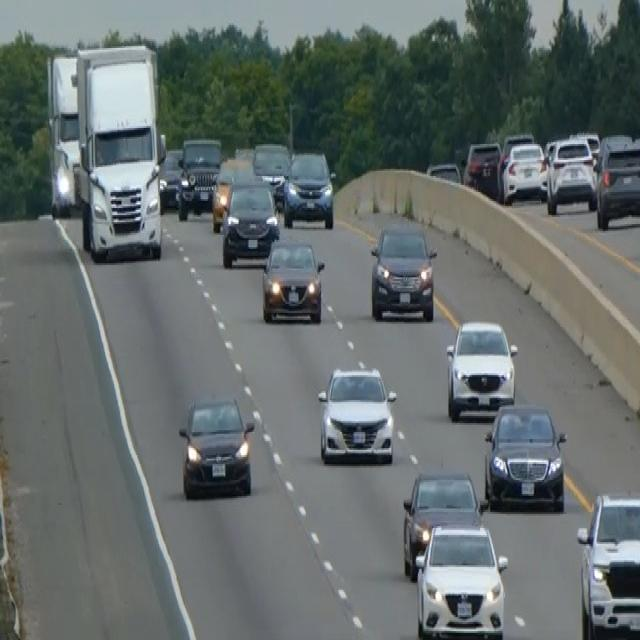car: (414, 519, 508, 638), (576, 489, 639, 638), (483, 402, 567, 510), (401, 468, 482, 578), (316, 362, 396, 466), (178, 393, 255, 499), (445, 316, 518, 419), (369, 220, 437, 322), (261, 234, 325, 324), (220, 178, 280, 266), (594, 133, 639, 230), (282, 148, 335, 230), (545, 135, 596, 213), (176, 135, 222, 219), (211, 155, 255, 231), (501, 138, 547, 204), (252, 140, 290, 202), (463, 139, 501, 197), (498, 132, 533, 183), (158, 148, 183, 210), (572, 130, 600, 165), (426, 160, 462, 185), (233, 144, 255, 165)
lorry: (73, 43, 165, 261)
